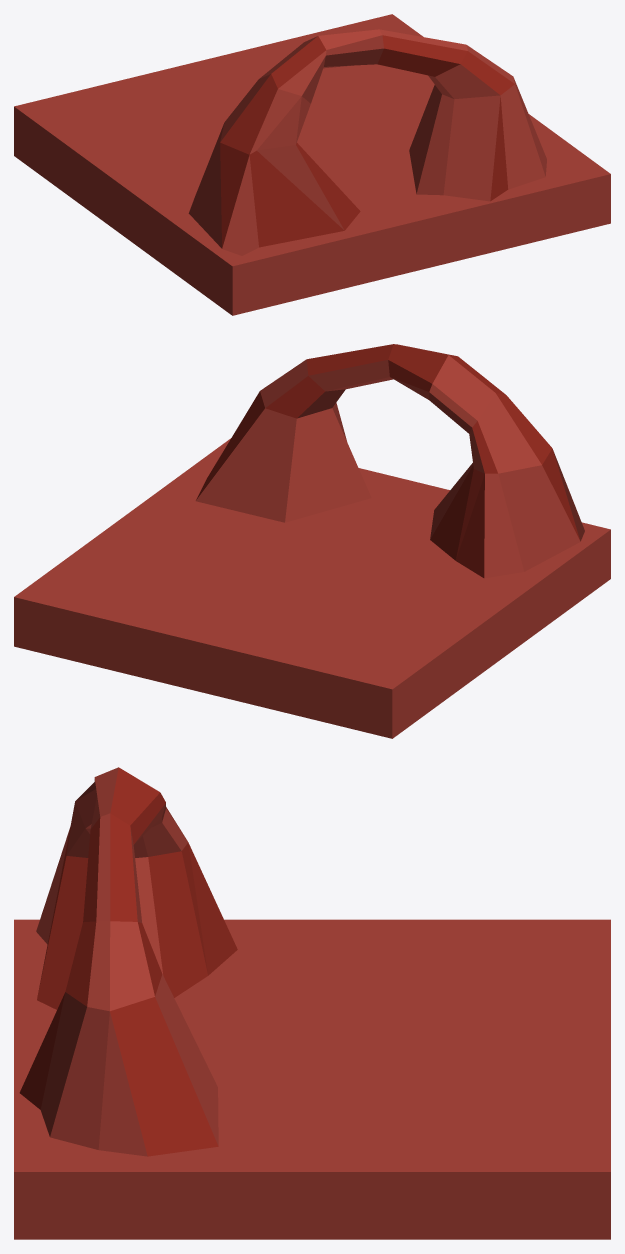
The model's file is Field_7.fbx.
3 renders of one model, top to bottom at view 1: azimuth 30°, elevation 25°; view 2: azimuth 150°, elevation 25°; view 3: azimuth 270°, elevation 25°, orthographic. The views are drawn at different scales.
Parts seen in each view (by area): view 1: Plane.003; view 2: Plane.003; view 3: Plane.003.
Part boxes in pixels (box(x1,y1,x2,y2)): Plane.003: box(14, 14, 610, 315); Plane.003: box(14, 344, 610, 738); Plane.003: box(14, 767, 610, 1239).
Size of the model in its own units: 400 by 224 by 400.
